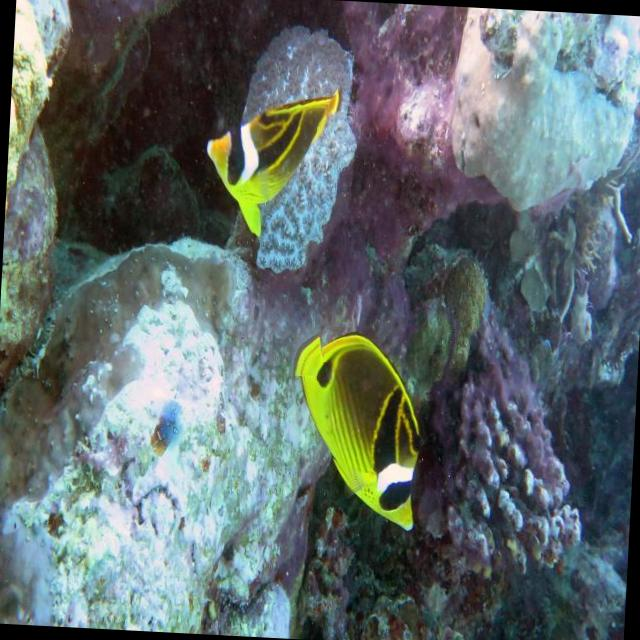ButterflyFish: (290, 330, 428, 532), (200, 84, 344, 243)
